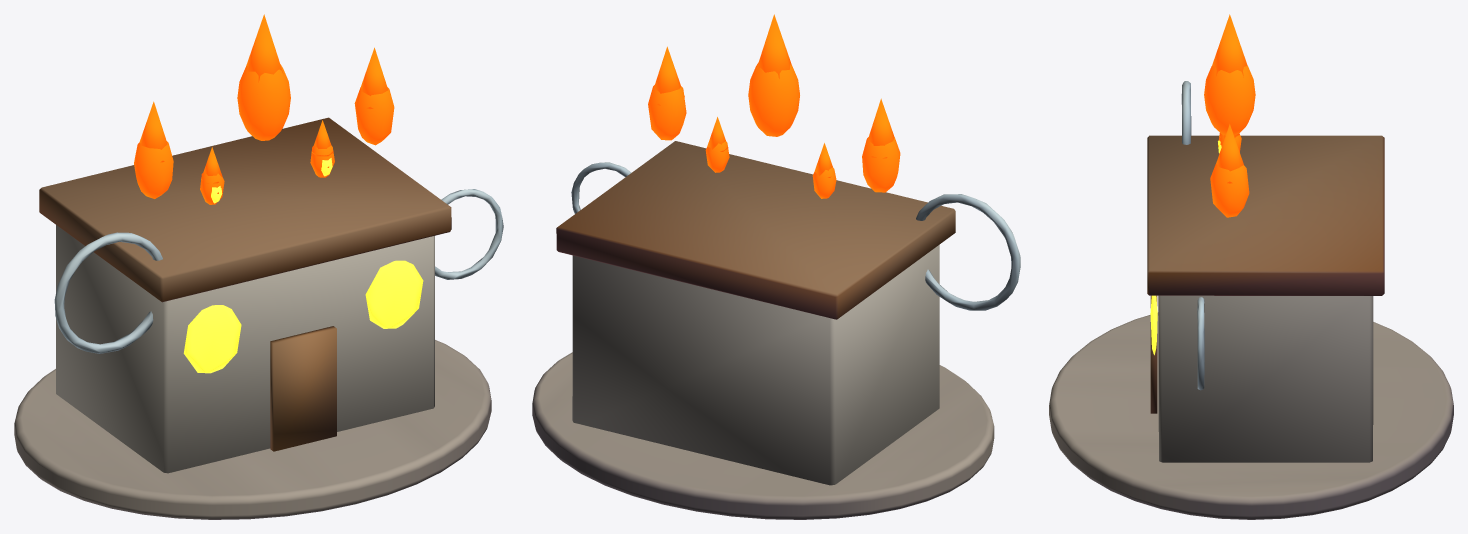
File: pentecost.glb
3 renders of one model, left to right at view 1: azimuth 30°, elevation 25°; view 2: azimuth 150°, elevation 25°; view 3: azimuth 270°, elevation 25°, orthographic. The views are drawn at different scales.
Parts seen in each view (by area): view 1: pentecost; view 2: pentecost; view 3: pentecost.
Boxes of the visible parts, bbox=[...] form: pentecost: bbox=[14, 14, 503, 519]; pentecost: bbox=[532, 14, 1020, 519]; pentecost: bbox=[1049, 14, 1453, 519].
Size of the model in its own units: 5.5 by 4.9 by 4.41.
